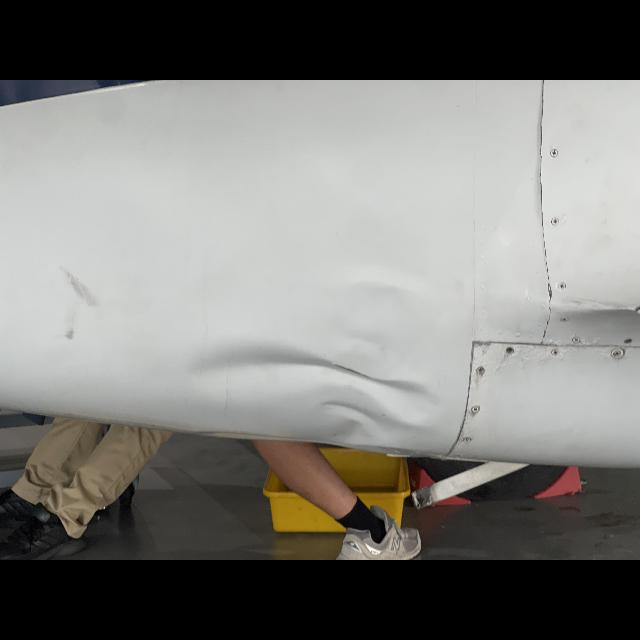dent: (170, 324, 448, 436)
